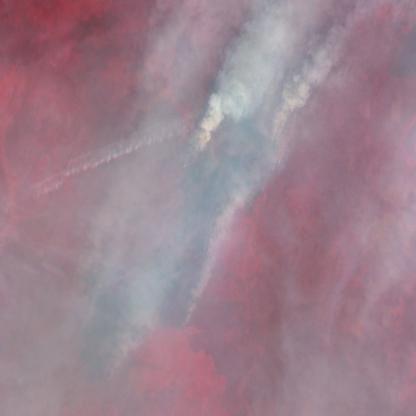fire: (68, 84, 281, 391)
